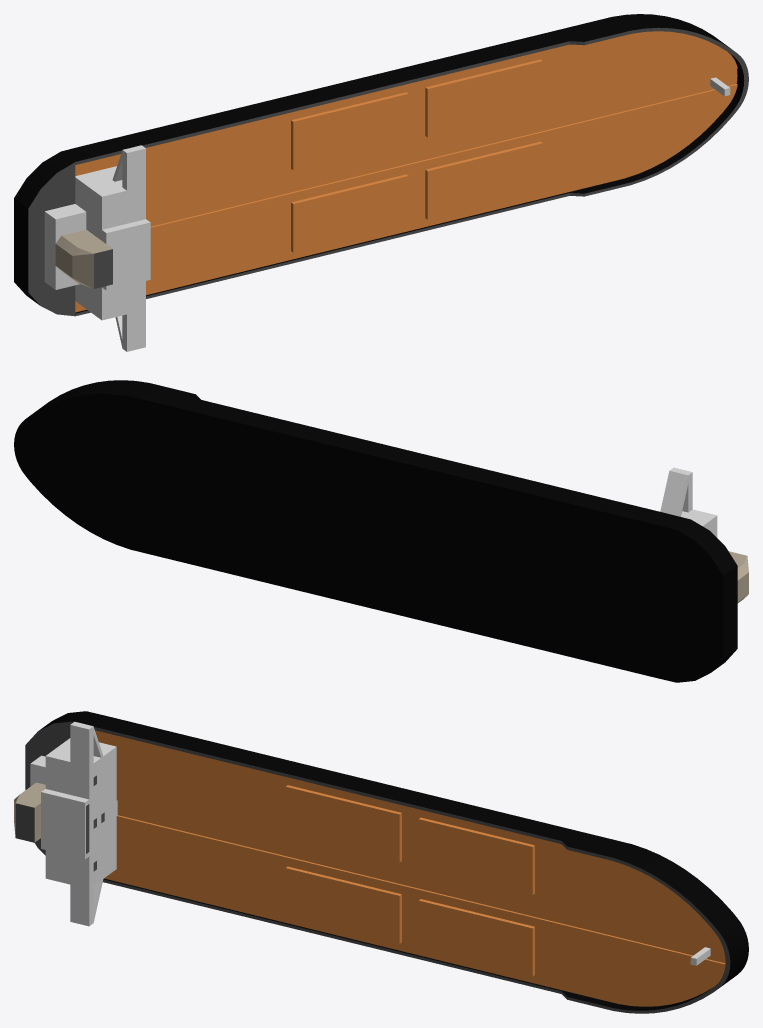
Rendered from oil_tanker_1.dae.
3 renders of one model, top to bottom at view 1: azimuth 30°, elevation 25°; view 2: azimuth 150°, elevation 25°; view 3: azimuth 330°, elevation 25°, orthographic.
Visible parts, largest first — view 1: coords_ME_ID33_MA_material_10, coords_ME_ID11_MA_material_9, coords_ME_ID3_MA_material_8, coords_ME_ID59_MA_material, coords_ME_ID91_MA_material_10, coords_ME_ID53_MA_material_10, coords_ME_ID39_MA_material_10, coords_ME_ID19_MA_material_10, coords_ME_ID27_MA_material_9, coords_ME_ID45_MA_material_13, coords_ME_ID109_MA_material; view 2: coords_ME_ID11_MA_material_9, coords_ME_ID3_MA_material_8, coords_ME_ID45_MA_material_13; view 3: coords_ME_ID33_MA_material_10, coords_ME_ID11_MA_material_9, coords_ME_ID3_MA_material_8, coords_ME_ID59_MA_material, coords_ME_ID91_MA_material_10, coords_ME_ID53_MA_material_10, coords_ME_ID19_MA_material_10, coords_ME_ID39_MA_material_10, coords_ME_ID27_MA_material_9, coords_ME_ID45_MA_material_13, coords_ME_ID109_MA_material.
Part boxes in pixels (left/top/right/bottom): coords_ME_ID33_MA_material_10: left=75, top=31, right=737, bottom=312; coords_ME_ID11_MA_material_9: left=14, top=14, right=730, bottom=305; coords_ME_ID3_MA_material_8: left=44, top=145, right=150, bottom=351; coords_ME_ID59_MA_material: left=28, top=27, right=748, bottom=316; coords_ME_ID91_MA_material_10: left=291, top=174, right=408, bottom=252; coords_ME_ID53_MA_material_10: left=425, top=141, right=542, bottom=219; coords_ME_ID39_MA_material_10: left=291, top=92, right=408, bottom=170; coords_ME_ID19_MA_material_10: left=425, top=59, right=542, bottom=137; coords_ME_ID27_MA_material_9: left=75, top=52, right=744, bottom=313; coords_ME_ID45_MA_material_13: left=55, top=229, right=112, bottom=288; coords_ME_ID109_MA_material: left=94, top=249, right=112, bottom=288; coords_ME_ID11_MA_material_9: left=14, top=380, right=737, bottom=682; coords_ME_ID3_MA_material_8: left=660, top=467, right=717, bottom=537; coords_ME_ID45_MA_material_13: left=728, top=551, right=748, bottom=602; coords_ME_ID33_MA_material_10: left=95, top=730, right=725, bottom=1006; coords_ME_ID11_MA_material_9: left=39, top=711, right=748, bottom=987; coords_ME_ID3_MA_material_8: left=30, top=721, right=117, bottom=926; coords_ME_ID59_MA_material: left=25, top=721, right=730, bottom=1013; coords_ME_ID91_MA_material_10: left=285, top=866, right=401, bottom=943; coords_ME_ID53_MA_material_10: left=418, top=899, right=534, bottom=976; coords_ME_ID19_MA_material_10: left=418, top=817, right=534, bottom=894; coords_ME_ID39_MA_material_10: left=285, top=785, right=401, bottom=862; coords_ME_ID27_MA_material_9: left=103, top=878, right=711, bottom=1010; coords_ME_ID45_MA_material_13: left=14, top=782, right=45, bottom=842; coords_ME_ID109_MA_material: left=15, top=803, right=34, bottom=842.
Size of the model in its own units: 1175 by 312 by 148.
